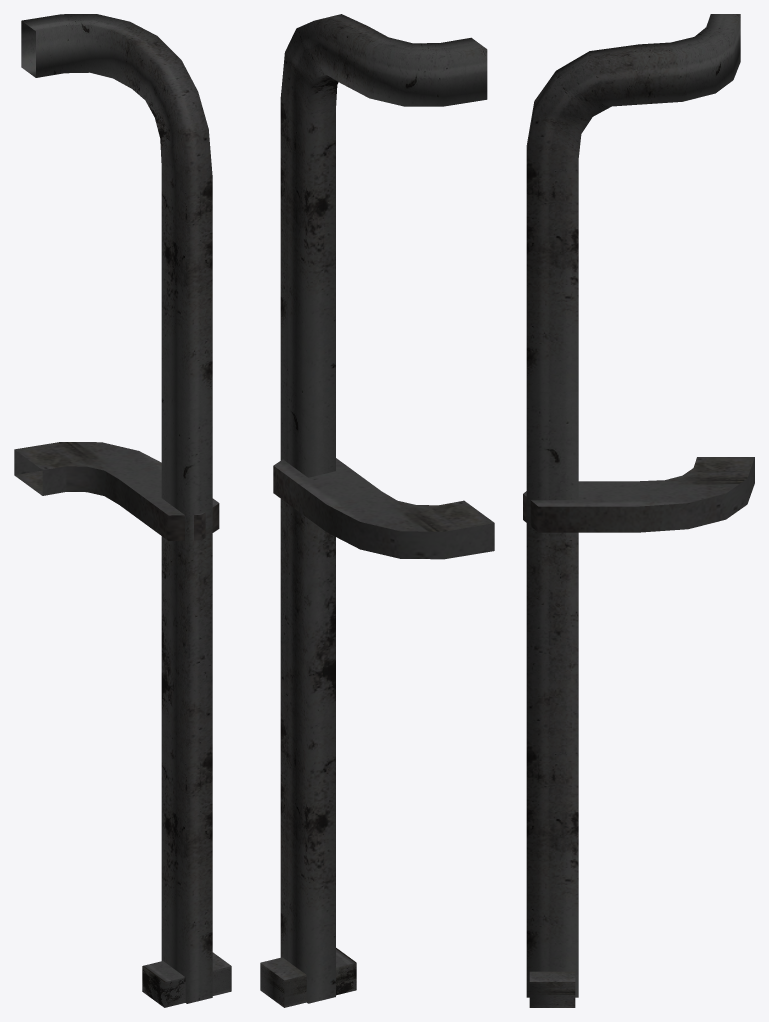
Rendered from cs_handrail_90_left_lod1.glb.
3 views of the same model, side by side, from view 1: azimuth 30°, elevation 25°; view 2: azimuth 210°, elevation 25°; view 3: azimuth 270°, elevation 25° (orthographic). The views are drawn at different scales.
Parts seen in each view (by area): view 1: surf0; view 2: surf0; view 3: surf0.
Boxes of the visible parts, <box> form: surf0: <box>14,14,231,1007</box>; surf0: <box>260,14,494,1007</box>; surf0: <box>523,14,754,1007</box>.
Size of the model in its own units: 4.37 by 35.91 by 8.02.
